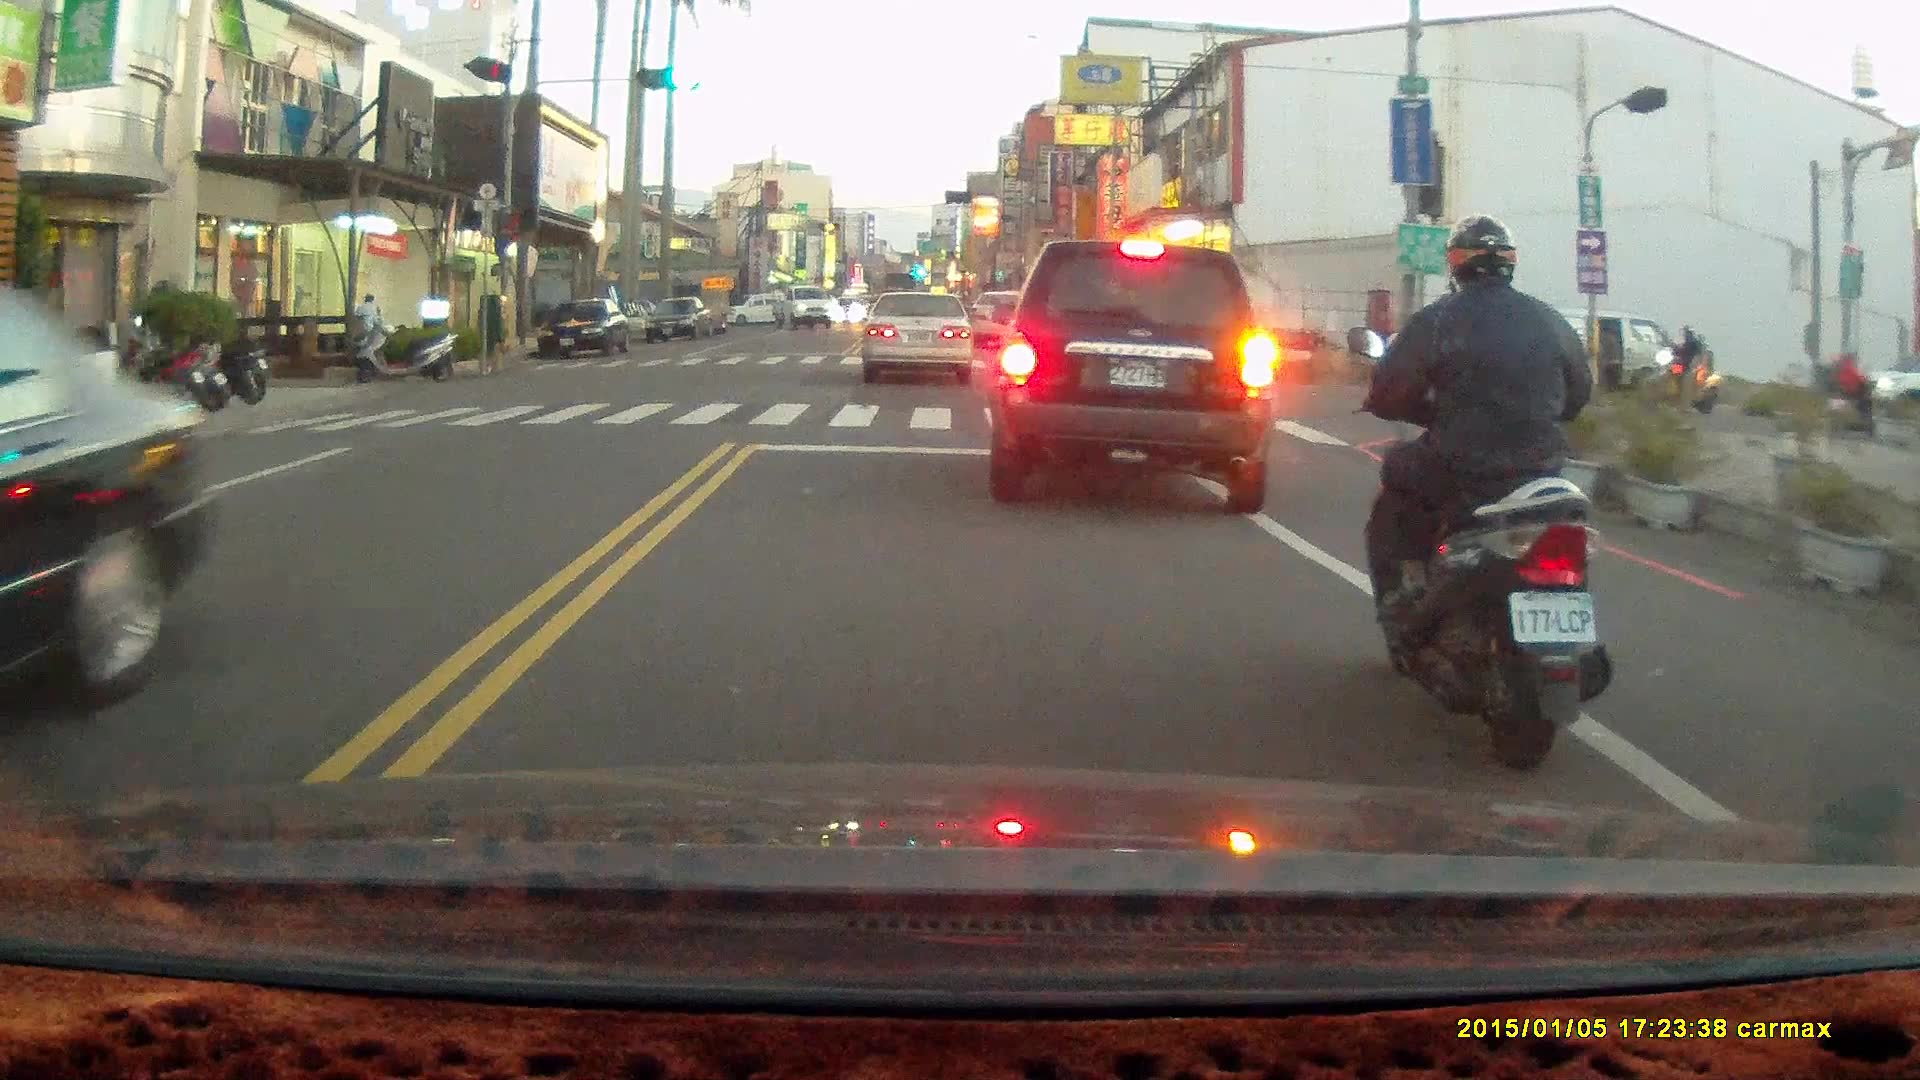pedestrian: (353, 292, 384, 360), (1598, 321, 1621, 392)
rider: (1340, 212, 1612, 770), (1808, 347, 1883, 436), (1642, 319, 1714, 412)
vehicle: (1, 283, 219, 723), (990, 238, 1272, 517), (1486, 308, 1688, 408), (862, 293, 975, 389), (535, 299, 634, 359), (639, 297, 713, 345), (771, 285, 835, 334)
